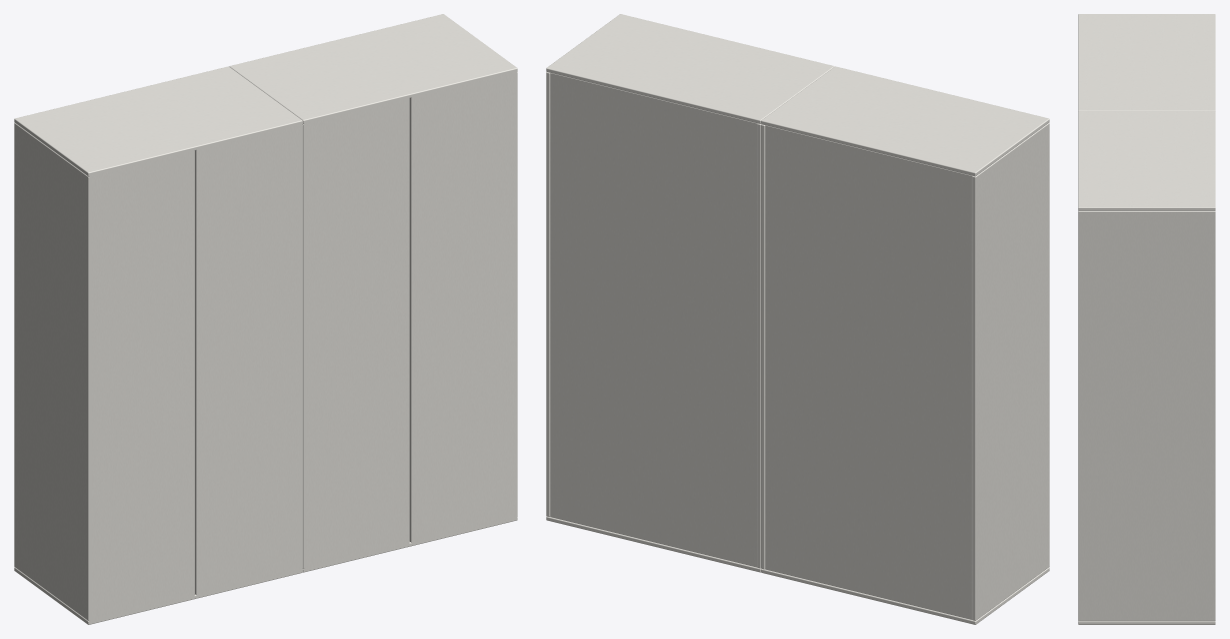
The model's file is pax-wide.glb.
The picture shows the model from 3 angles, left to right: view 1: azimuth 30°, elevation 25°; view 2: azimuth 150°, elevation 25°; view 3: azimuth 270°, elevation 25°; orthographic projection. The views are drawn at different scales.
Visible parts, largest first — view 1: PAX / FORSAND Wardrobe, 200 cm wide, standard; view 2: PAX / FORSAND Wardrobe, 200 cm wide, standard; view 3: PAX / FORSAND Wardrobe, 200 cm wide, standard.
Part boxes in pixels (x1,y1,x2,y2): PAX / FORSAND Wardrobe, 200 cm wide, standard: (14,14,517,624); PAX / FORSAND Wardrobe, 200 cm wide, standard: (546,14,1049,624); PAX / FORSAND Wardrobe, 200 cm wide, standard: (1078,14,1215,624).
Size of the model in its own units: 2 by 2.01 by 0.6.
1 material, 1 textured.
